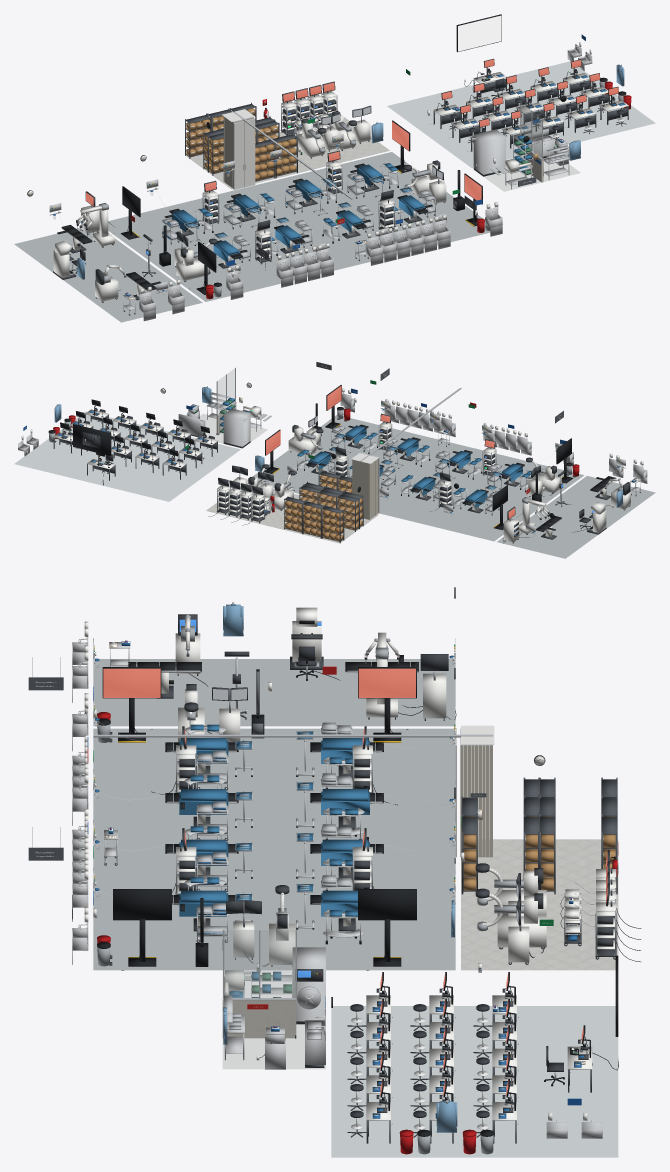
File: 02_n1_bloque_quirurgico.glb
The picture shows the model from 3 angles, top to bottom: view 1: azimuth 30°, elevation 25°; view 2: azimuth 150°, elevation 25°; view 3: azimuth 270°, elevation 25°; orthographic projection. The views are drawn at different scales.
Visible parts, largest first — view 1: piso · Macro quirófano · 8 mesas · h libre 3.60 m, piso · Sala de microcirugía · 16 estaciones, estacion_micro_digital (×13), puesto_quirurgico (×8), piso · Sala de cirugía robótica, arco_en_c (×4), torre_laparoscopia (×6), anaquel_rotulado (×4), pantalla_pedestal_75 (×4), piso · Bodega de material quirúrgico e insumos, puerta del nicho del muro móvil, tarja_quirurgica (×3) (+13 smaller); view 2: piso · Macro quirófano · 8 mesas · h libre 3.60 m, piso · Sala de microcirugía · 16 estaciones, piso · Sala de cirugía robótica, puesto_quirurgico (×7), anaquel_rotulado (×7), torre_laparoscopia (×8), arco_en_c (×4), pantalla_pedestal_75 (×4), estacion_micro_digital (×4), muro móvil abierto (paneles guardados en el nicho), autoclave, piso · Bodega de material quirúrgico e insumos (+9 smaller); view 3: piso · Macro quirófano · 8 mesas · h libre 3.60 m, piso · Sala de microcirugía · 16 estaciones, puesto_quirurgico (×8), piso · Sala de cirugía robótica, estacion_micro_digital (×14), piso · Bodega de material quirúrgico e insumos, pantalla_pedestal_75 (×4), arco_en_c (×4), media pared 1.20 con mampara de vidrio, torre_laparoscopia (×5), anaquel_rotulado (×4), muro móvil abierto (paneles guardados en el nicho) (+12 smaller).
Boxes of the visible parts, x1,y1,x2,y2 form: piso · Macro quirófano · 8 mesas · h libre 3.60 m: (108, 152, 490, 301); piso · Sala de microcirugía · 16 estaciones: (387, 61, 655, 168); estacion_micro_digital (×13): (433, 59, 628, 142); puesto_quirurgico (×8): (164, 163, 432, 273); piso · Sala de cirugía robótica: (14, 228, 202, 322); arco_en_c (×4): (174, 105, 446, 281); torre_laparoscopia (×6): (202, 85, 394, 264); anaquel_rotulado (×4): (185, 113, 297, 181); pantalla_pedestal_75 (×4): (121, 120, 482, 294); piso · Bodega de material quirúrgico e insumos: (186, 117, 389, 189); puerta del nicho del muro móvil: (233, 118, 255, 189); tarja_quirurgica (×3): (276, 202, 502, 287); piso · Macro quirófano · 8 mesas · h libre 3.60 m: (247, 415, 584, 541); piso · Sala de microcirugía · 16 estaciones: (14, 411, 240, 501); piso · Sala de cirugía robótica: (497, 476, 655, 558); puesto_quirurgico (×7): (297, 424, 531, 513); anaquel_rotulado (×7): (284, 470, 359, 543); torre_laparoscopia (×8): (216, 413, 496, 523); arco_en_c (×4): (232, 415, 560, 510); pantalla_pedestal_75 (×4): (264, 385, 573, 530); estacion_micro_digital (×4): (135, 426, 218, 479); muro móvil abierto (paneles guardados en el nicho): (352, 459, 377, 519); autoclave: (223, 408, 250, 448); piso · Bodega de material quirúrgico e insumos: (206, 482, 378, 543); piso · Macro quirófano · 8 mesas · h libre 3.60 m: (93, 728, 455, 970); piso · Sala de microcirugía · 16 estaciones: (331, 1006, 618, 1157); puesto_quirurgico (×8): (165, 724, 383, 944); piso · Sala de cirugía robótica: (93, 659, 455, 726); estacion_micro_digital (×14): (347, 972, 516, 1143); piso · Bodega de material quirúrgico e insumos: (461, 839, 618, 970); pantalla_pedestal_75 (×4): (102, 667, 416, 966); arco_en_c (×4): (178, 684, 546, 966); media pared 1.20 con mampara de vidrio: (222, 929, 296, 1038); torre_laparoscopia (×5): (175, 726, 616, 959); anaquel_rotulado (×4): (461, 814, 617, 894); muro móvil abierto (paneles guardados en el nicho): (460, 728, 492, 857).
Bounding box in the file's own units: 33.7 × 3.68 × 17.5.
Materials: 58 (3 with a texture image).
